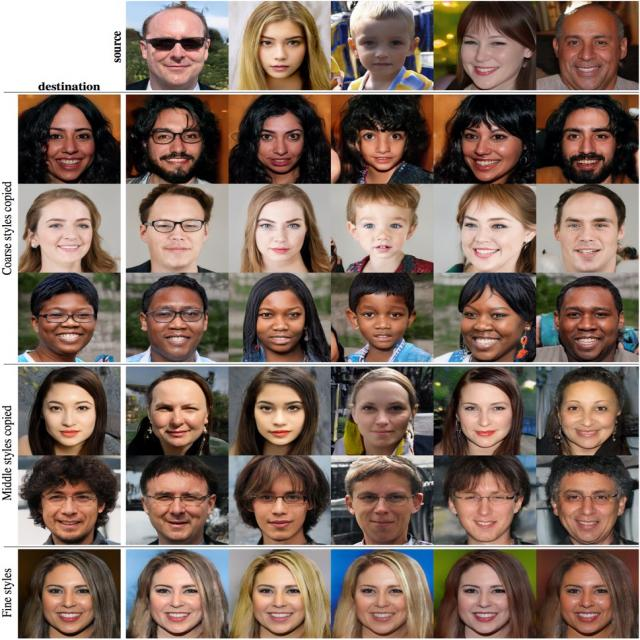Glasses: (144, 123, 208, 149), (143, 33, 209, 54), (145, 217, 207, 235), (145, 492, 211, 507), (145, 308, 206, 324), (40, 492, 98, 507), (452, 492, 518, 505), (355, 492, 416, 506), (556, 491, 620, 504), (250, 492, 308, 506), (36, 312, 97, 324)
